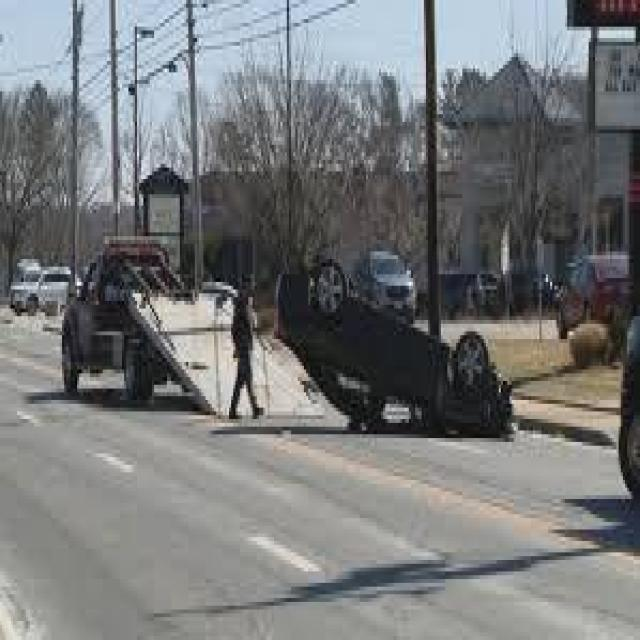severe: (272, 249, 516, 444)
